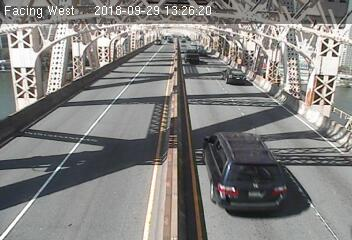car: (200, 129, 290, 217), (222, 68, 249, 87), (183, 47, 201, 64), (153, 39, 160, 44)
